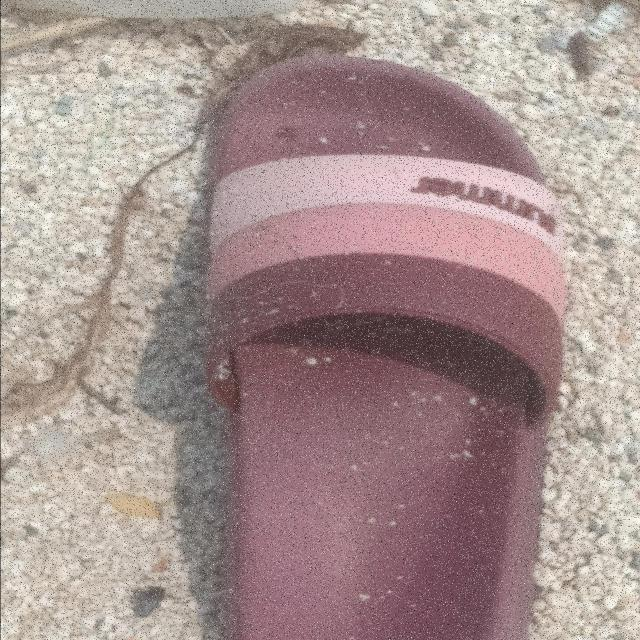rubber_waste: (201, 53, 569, 640)
